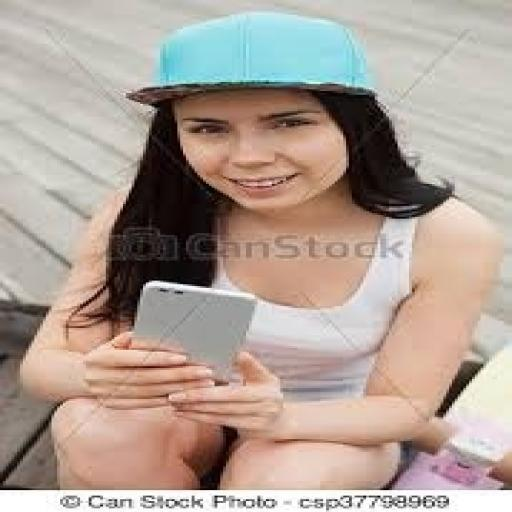texting: (17, 11, 506, 488)
